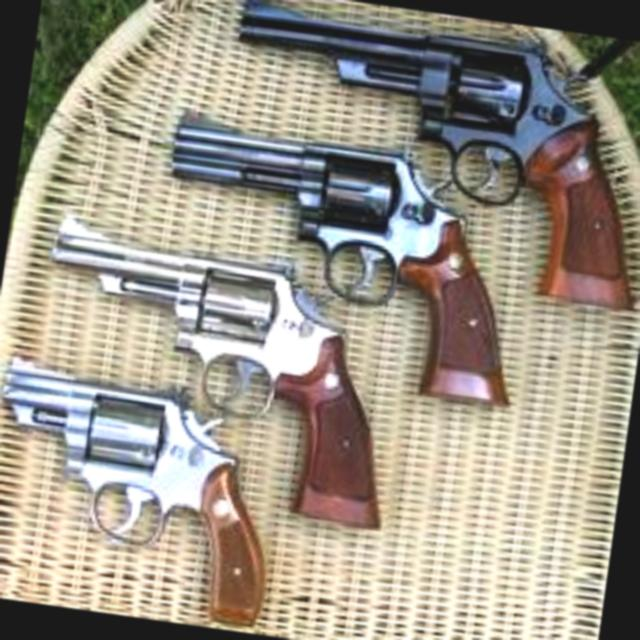revolver: (0, 349, 301, 636)
